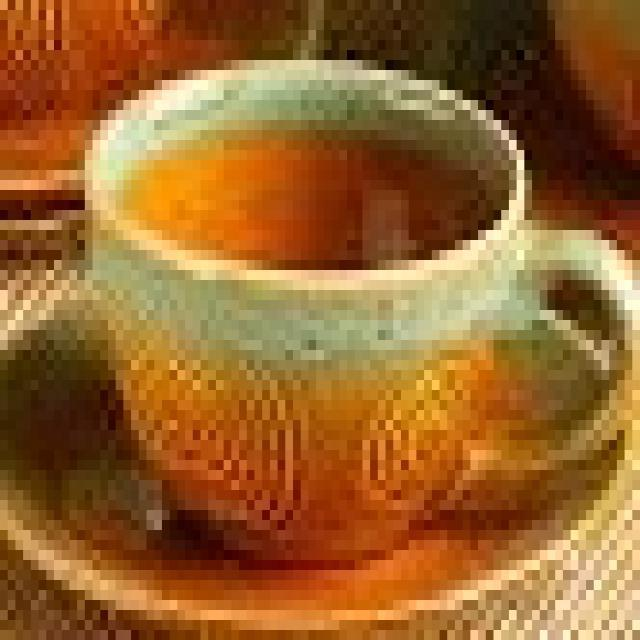taza: (58, 34, 640, 564)
